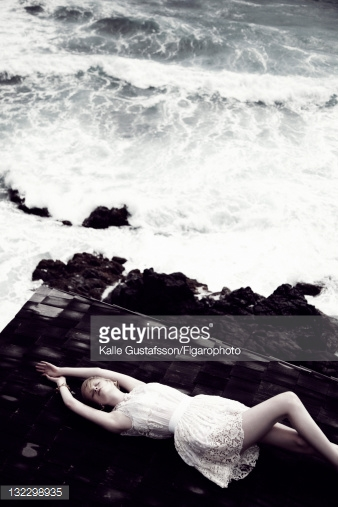deitado: (32, 357, 338, 493)
